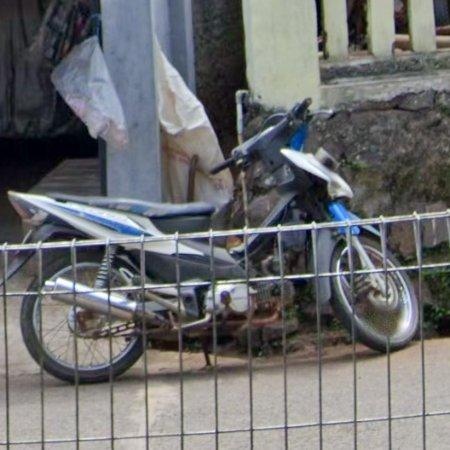motorcycles: (7, 96, 424, 382)
